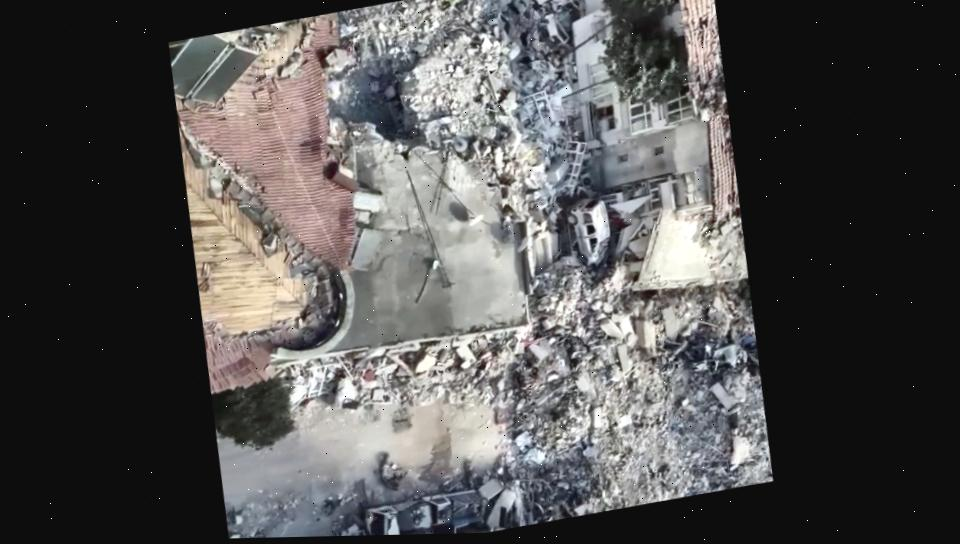kapali: (414, 296, 768, 495)
